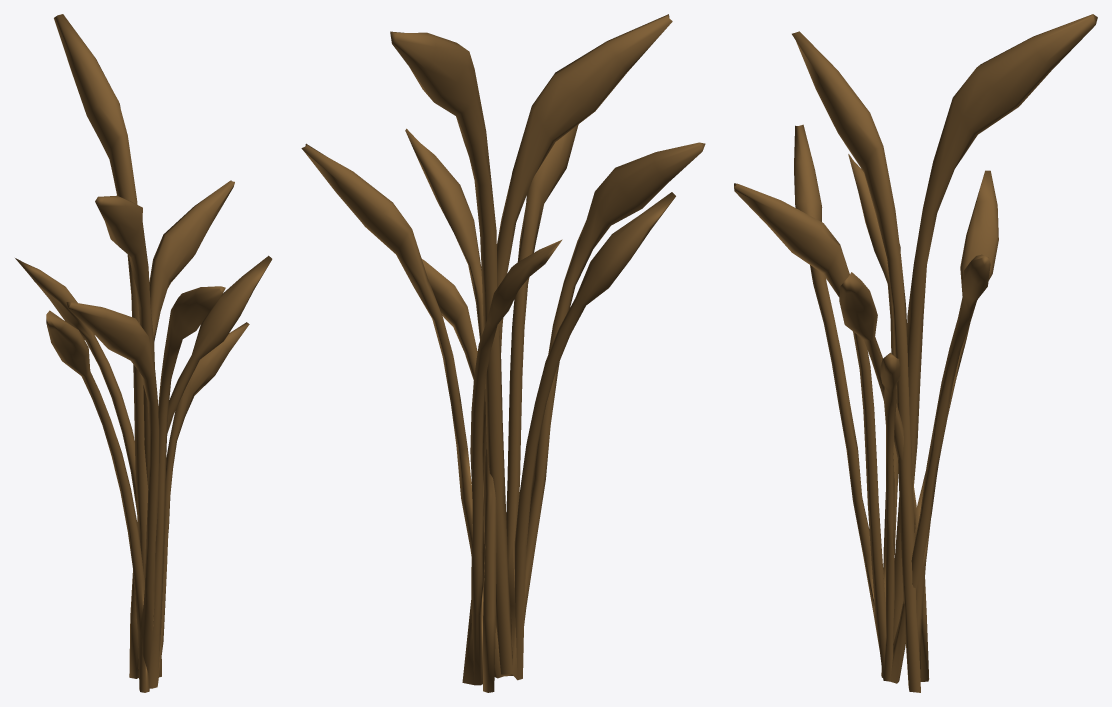
Rendered from wheat2.gltf.
3 renders of one model, left to right at view 1: azimuth 30°, elevation 25°; view 2: azimuth 150°, elevation 25°; view 3: azimuth 270°, elevation 25°, orthographic. The views are drawn at different scales.
Parts seen in each view (by area): view 1: BézierCurve; view 2: BézierCurve; view 3: BézierCurve.
Boxes of the visible parts, x1=… form: BézierCurve: x1=15, y1=14, x2=272, y2=692; BézierCurve: x1=301, y1=14, x2=705, y2=692; BézierCurve: x1=734, y1=14, x2=1097, y2=692.
Size of the model in its own units: 0.89 by 2.06 by 1.02.
1 material, 1 textured.
